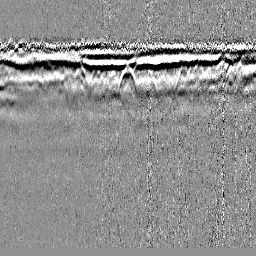cavity: (117, 66, 139, 96)
